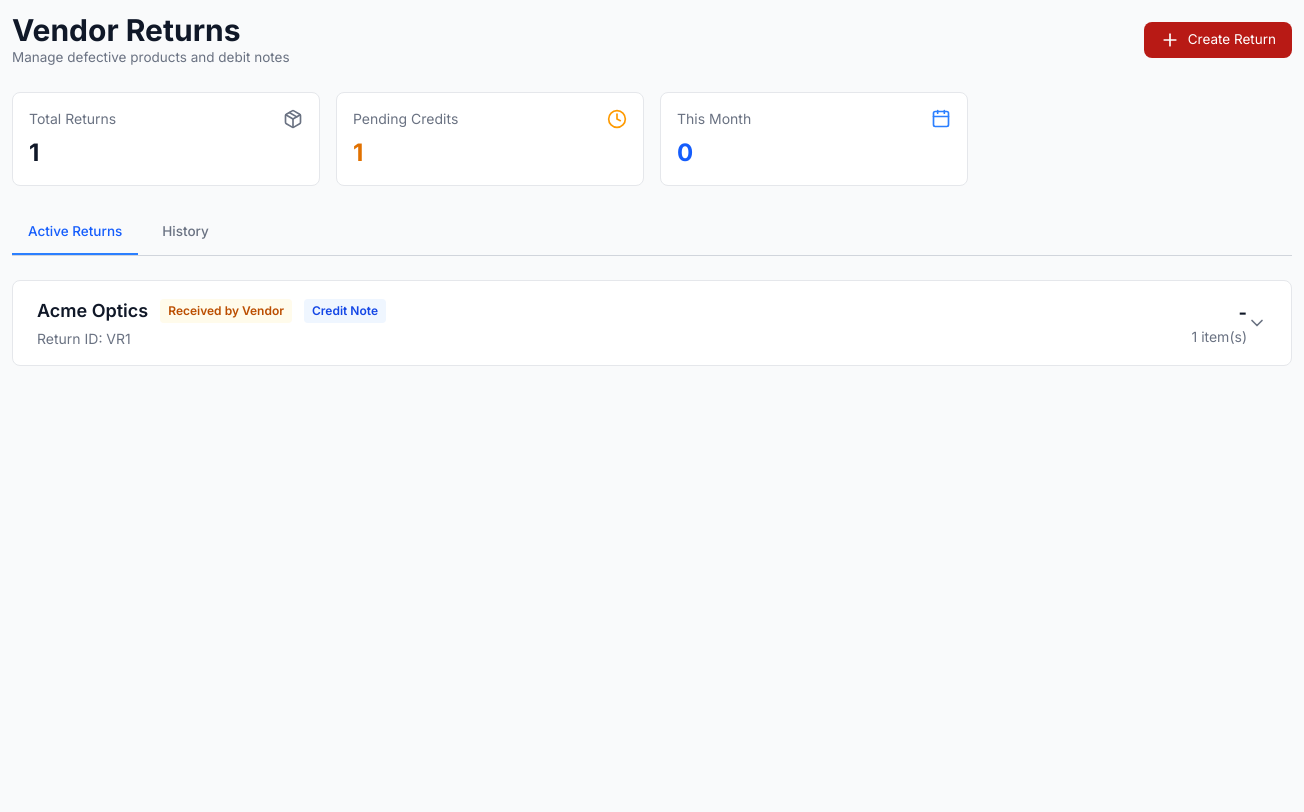
it: An unpriced return: the accounts roles set its prices before the credit › STORE_MANAGER: no Set prices
Click the heading "Acme Optics".
click(93, 311)  # box [37,297,148,325]
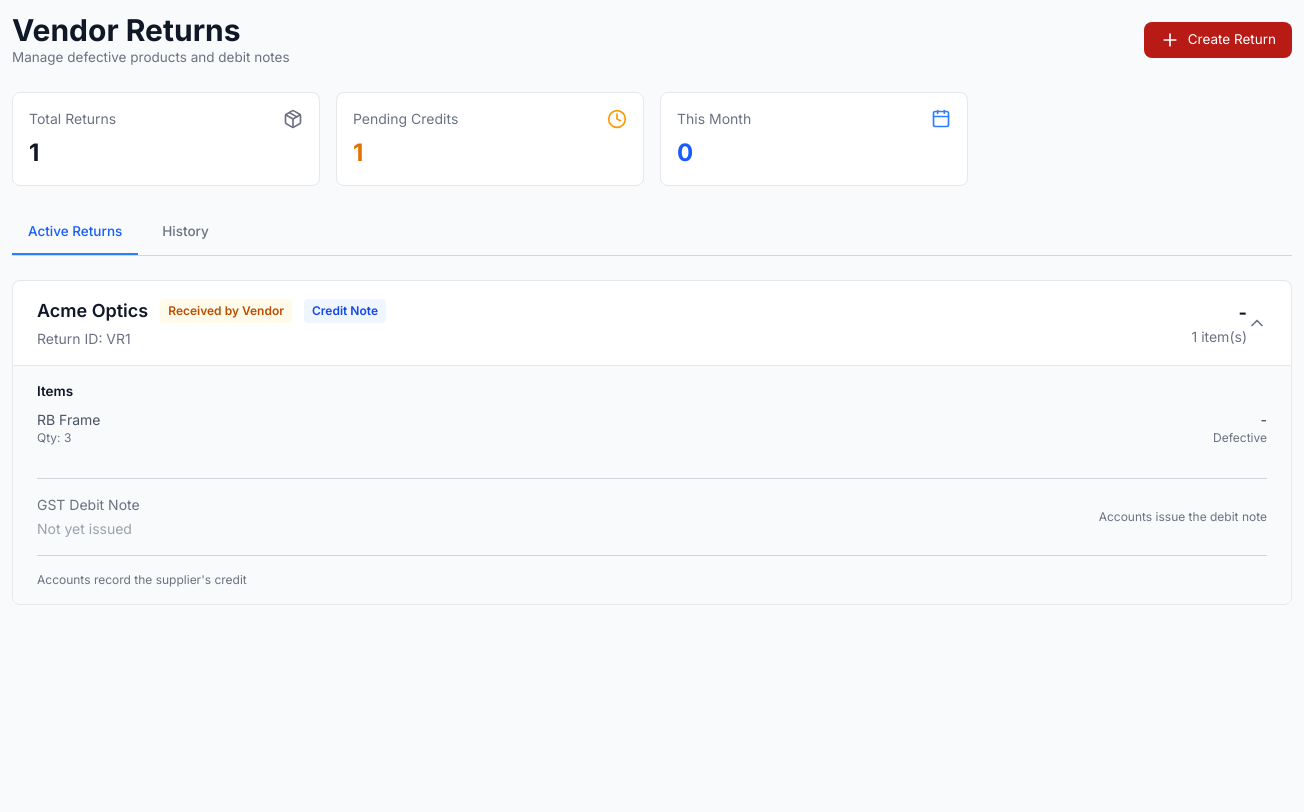
Check: the text "RB Frame" is shown, box [37,410,100,430]
